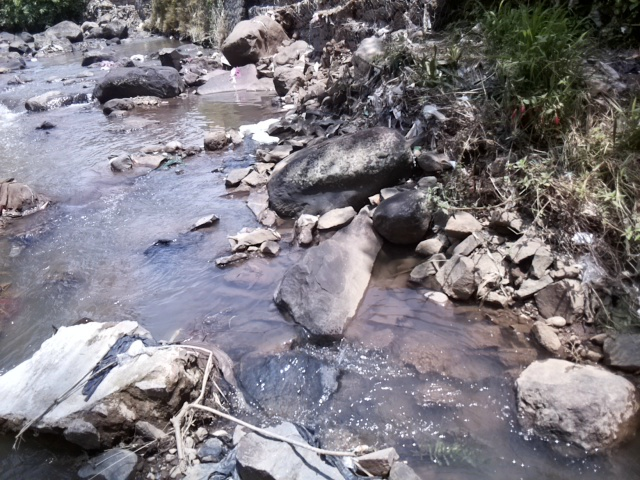Sampah_Plastik: (82, 330, 148, 406)
